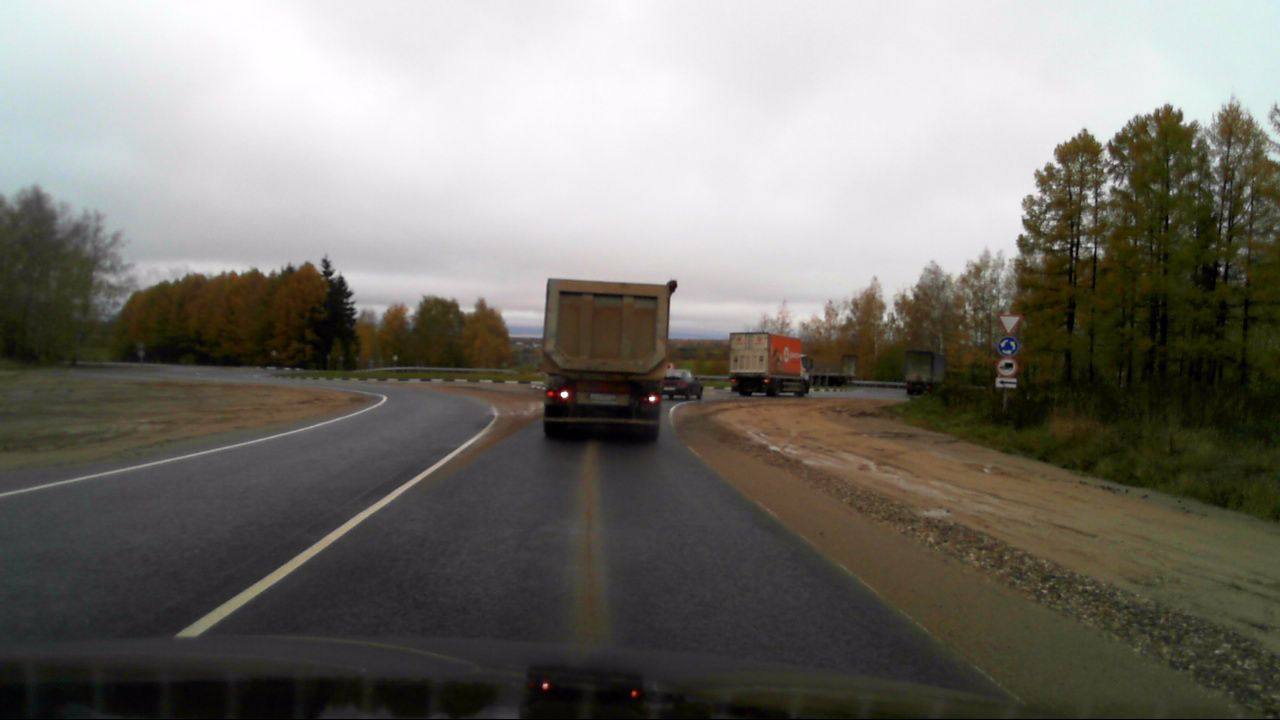Round-About: (997, 337, 1018, 356)
